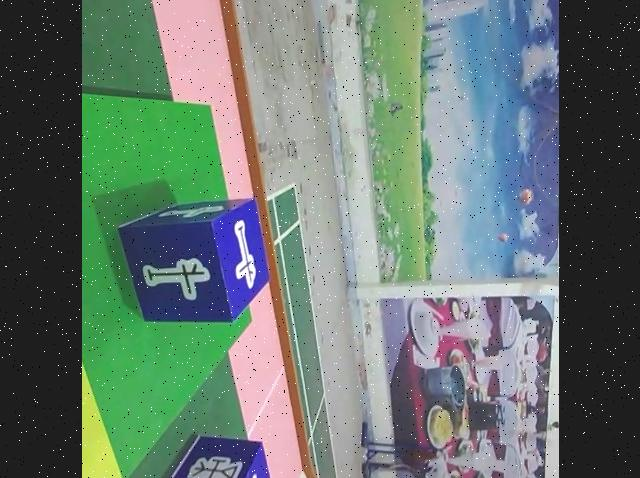R2 Real Blue: (113, 200, 268, 323), (154, 433, 272, 478)
